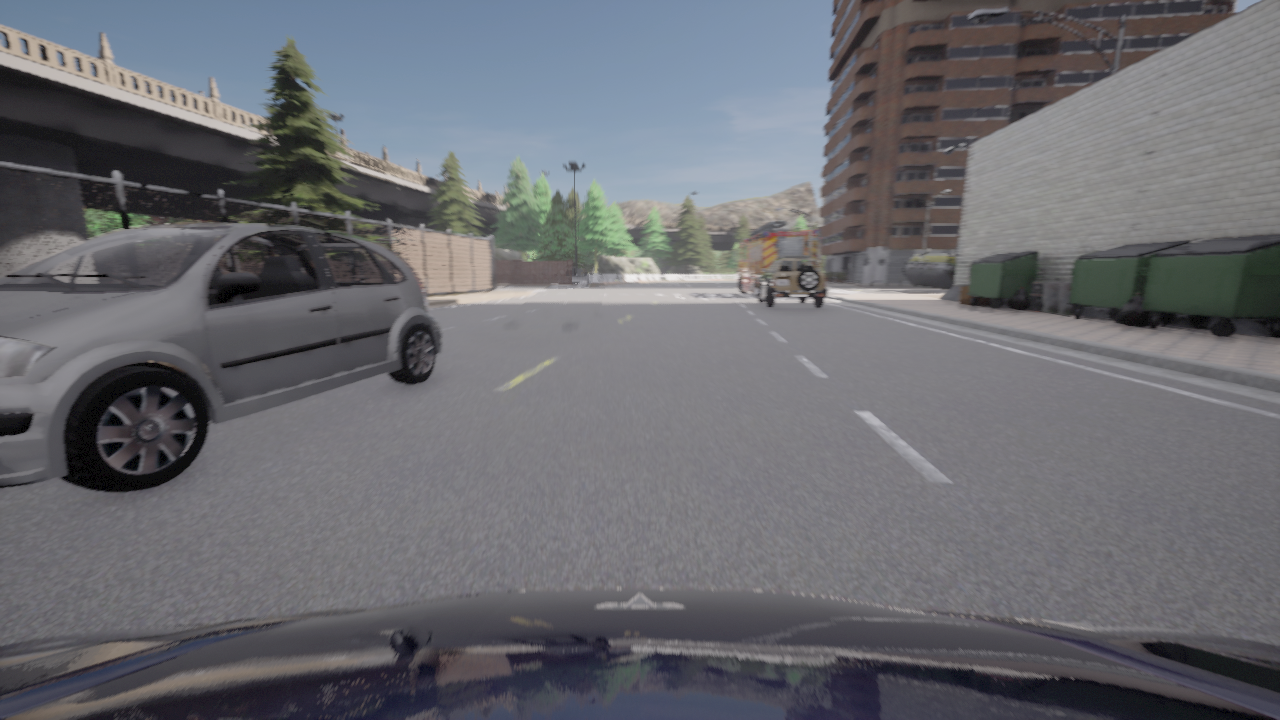cyclist: (0, 588, 1279, 719), (0, 224, 440, 492), (733, 221, 820, 296), (757, 255, 827, 308), (903, 249, 956, 288)
pedestrian: (40, 46, 44, 60), (1278, 352, 1279, 353)
